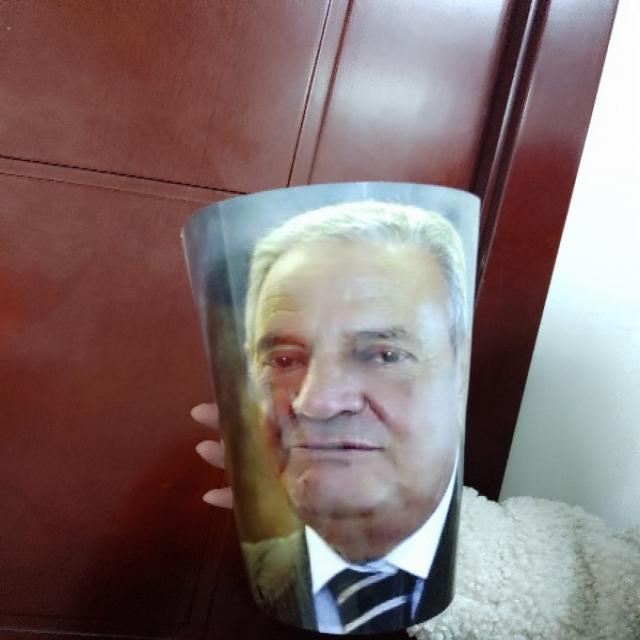photo: (178, 174, 483, 631)
